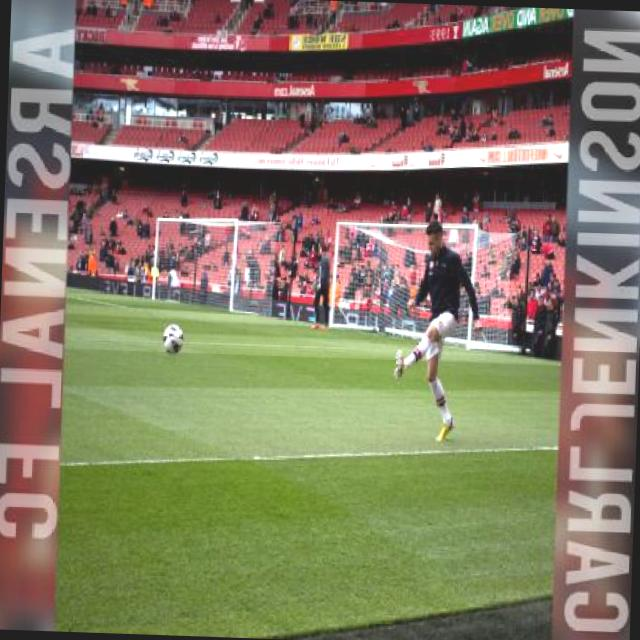Person: (402, 218, 482, 425)
